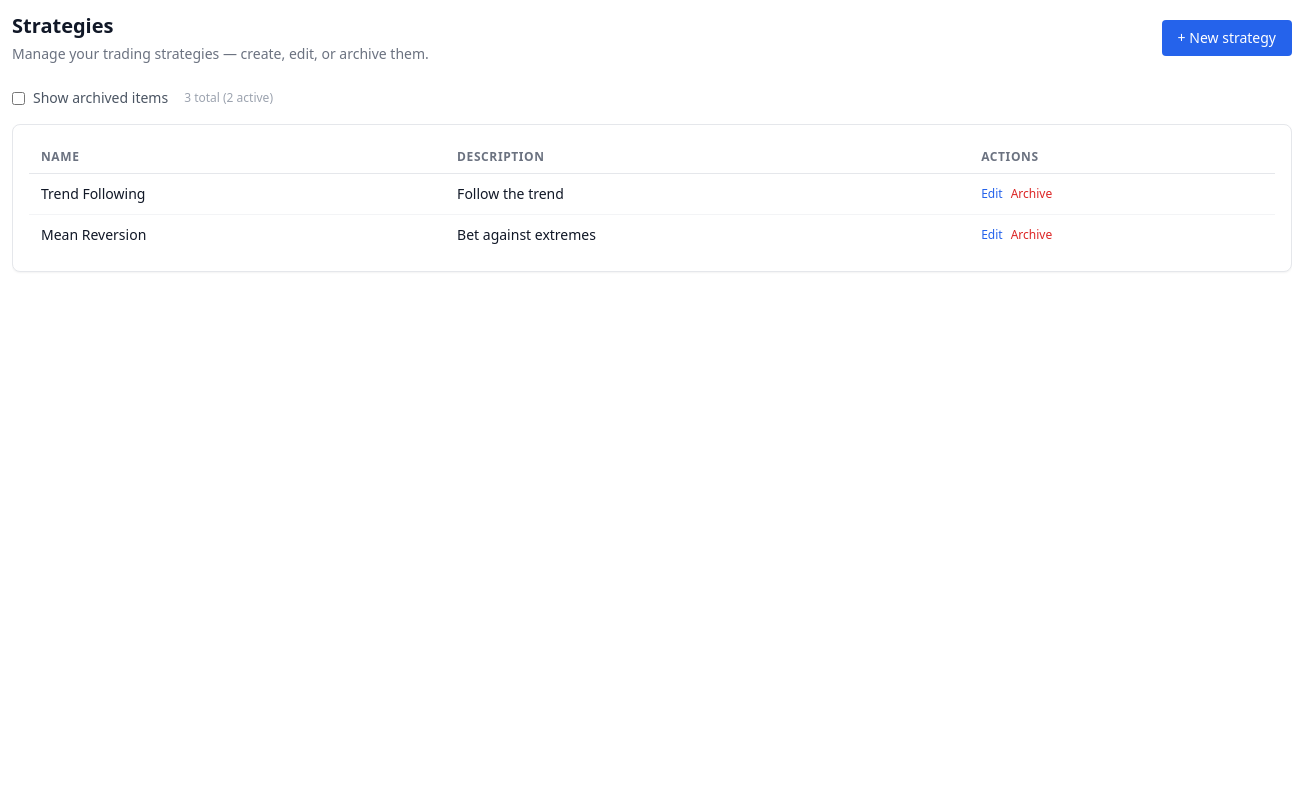
Scenario: CatalogAdmin — F2: Create/edit form submits correct payload › cancels the form and resets state
# Open create form
Click the button "+ New strategy" at (1227, 38), box [1162,20,1292,56]
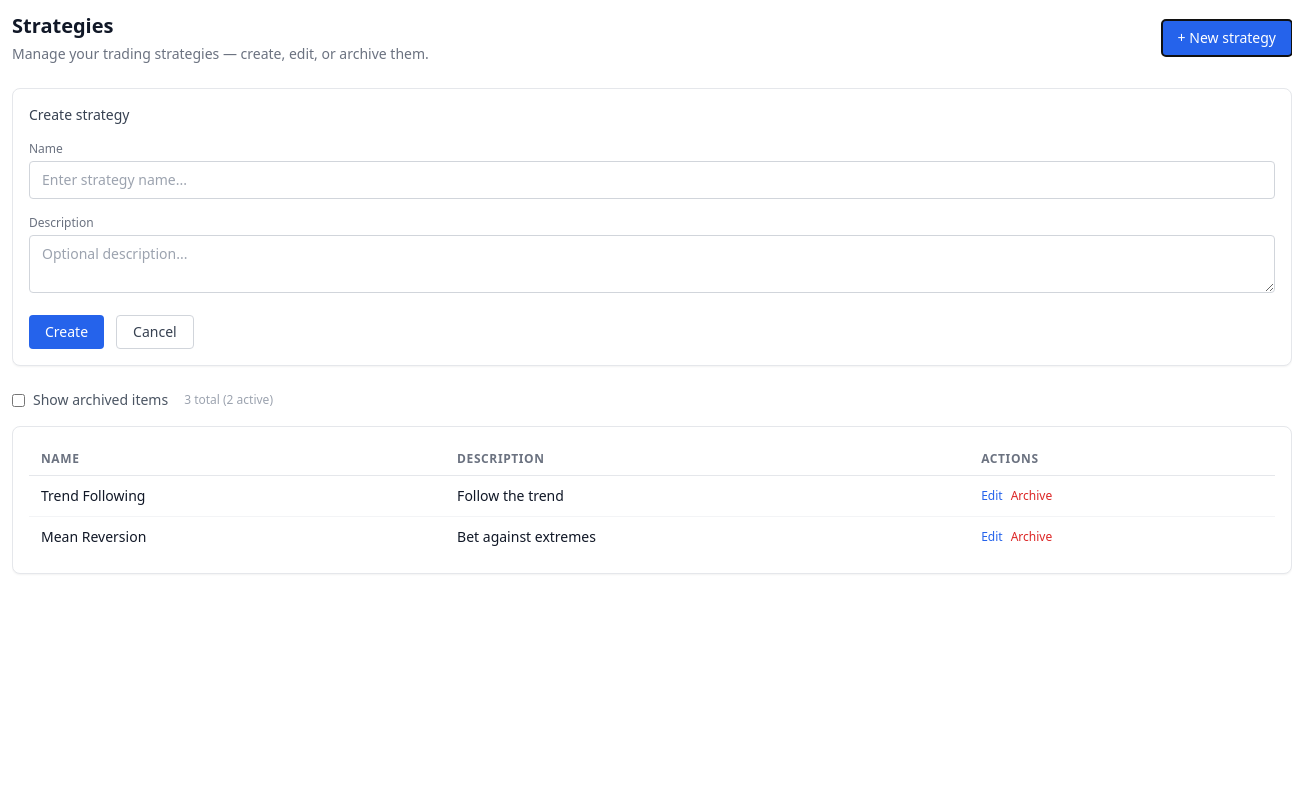
expect the heading "Create strategy" is shown: met, box [29,105,130,124]
# Type something
Type "test" into the field with placeholder "Enter strategy name..." at (652, 180), box [29,161,1275,199]
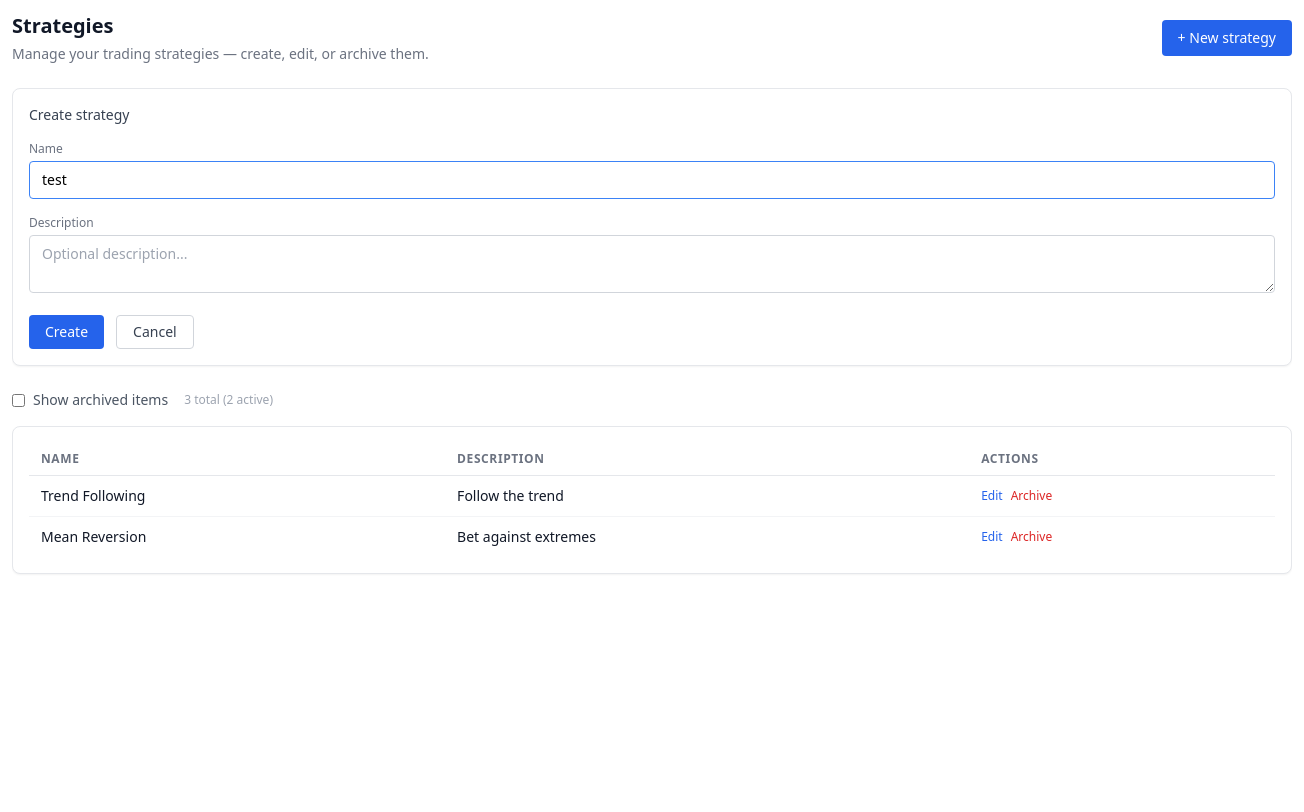
# Click Cancel
Click the button "Cancel" at (155, 332), box [116,315,194,349]
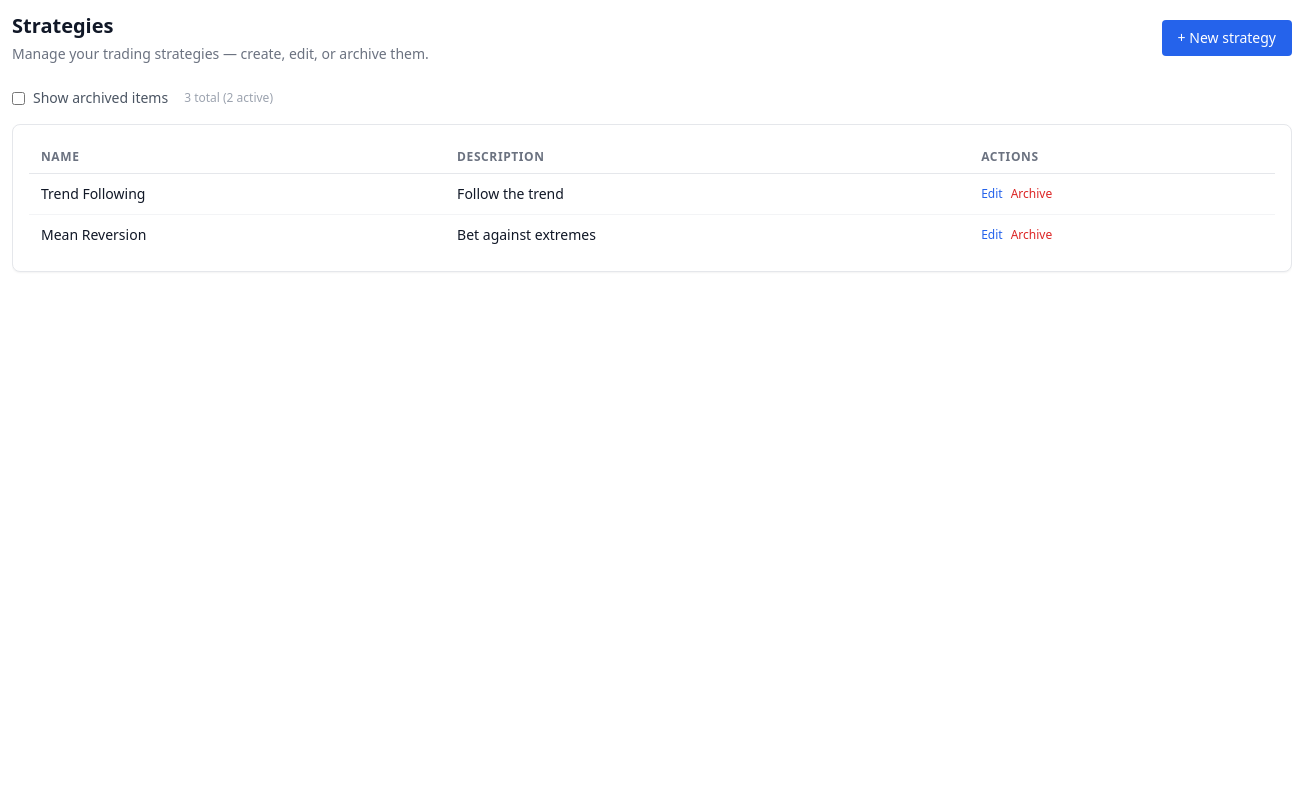
expect the heading "Create strategy" is gone: met
